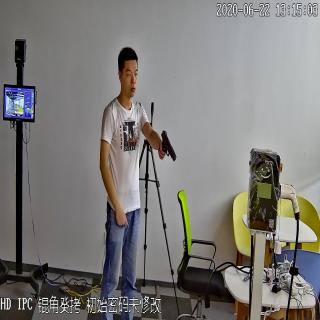gun: (158, 126, 177, 163)
